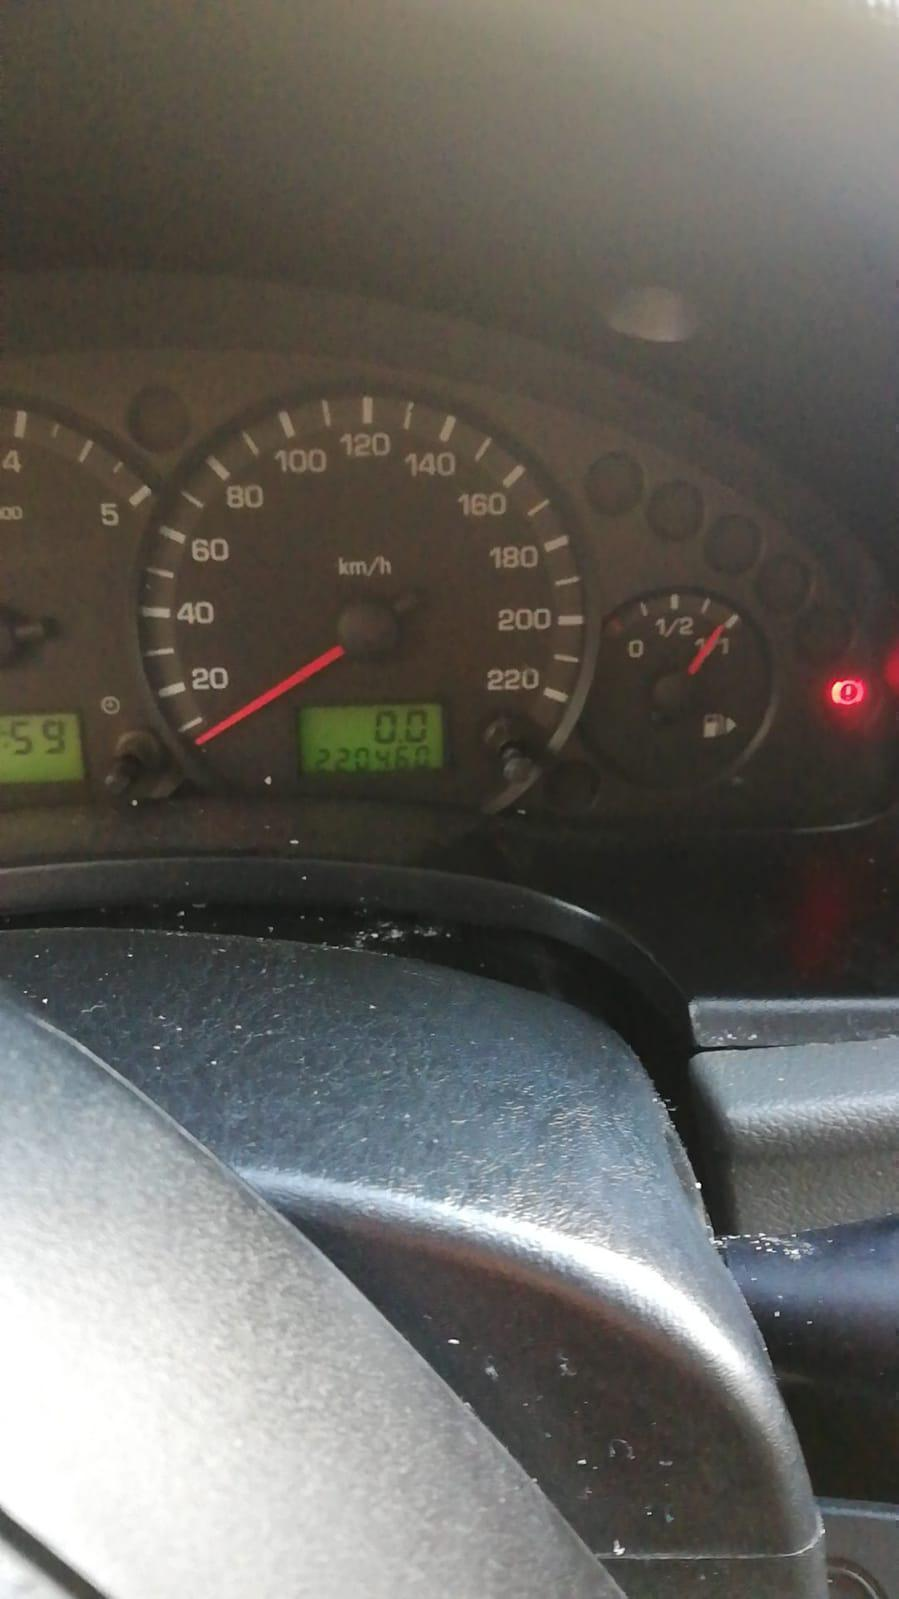,: (397, 737, 404, 743)
0: (374, 711, 396, 743), (406, 708, 427, 742), (413, 743, 429, 769), (353, 747, 369, 770)
2: (314, 748, 330, 772), (334, 748, 350, 771)
4: (374, 746, 391, 770)
6: (395, 745, 409, 770)
odometer: (293, 696, 450, 778)
